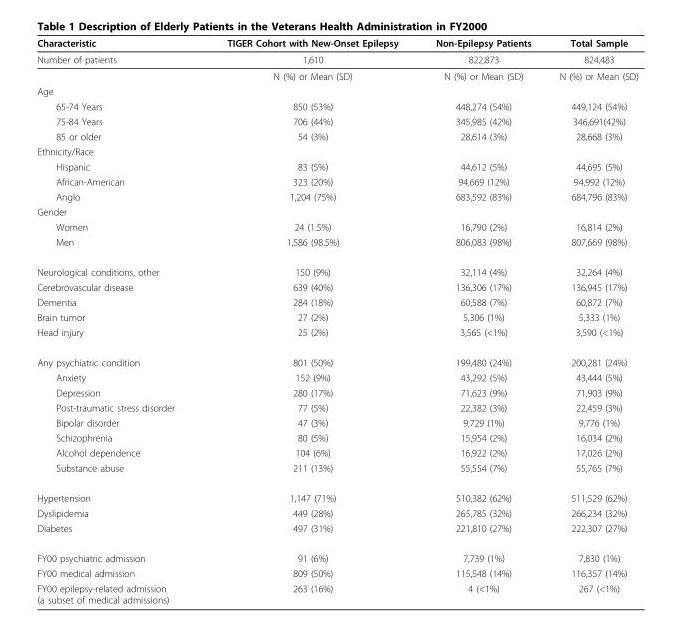table: (36, 36, 637, 604)
table column: (200, 36, 416, 604), (36, 36, 200, 604), (416, 36, 544, 604), (544, 36, 637, 604)
table column header: (36, 36, 637, 50)
table projected row header: (36, 203, 637, 219), (36, 83, 637, 98), (36, 143, 637, 158)
table row: (36, 580, 637, 604), (36, 256, 637, 279), (36, 324, 637, 347), (36, 482, 637, 505), (36, 542, 637, 565), (36, 234, 637, 256), (36, 347, 637, 369), (36, 460, 637, 482), (36, 520, 637, 542), (36, 50, 637, 67), (36, 67, 637, 83), (36, 203, 637, 219), (36, 444, 637, 460), (36, 83, 637, 98), (36, 98, 637, 113), (36, 113, 637, 128), (36, 128, 637, 143), (36, 143, 637, 158), (36, 158, 637, 173), (36, 173, 637, 188), (36, 188, 637, 203), (36, 219, 637, 234), (36, 279, 637, 294), (36, 294, 637, 309), (36, 309, 637, 324), (36, 369, 637, 384), (36, 384, 637, 399), (36, 399, 637, 414), (36, 414, 637, 429), (36, 429, 637, 444), (36, 505, 637, 520), (36, 565, 637, 580), (36, 36, 637, 50)
table spanning cell: (36, 50, 200, 83)
